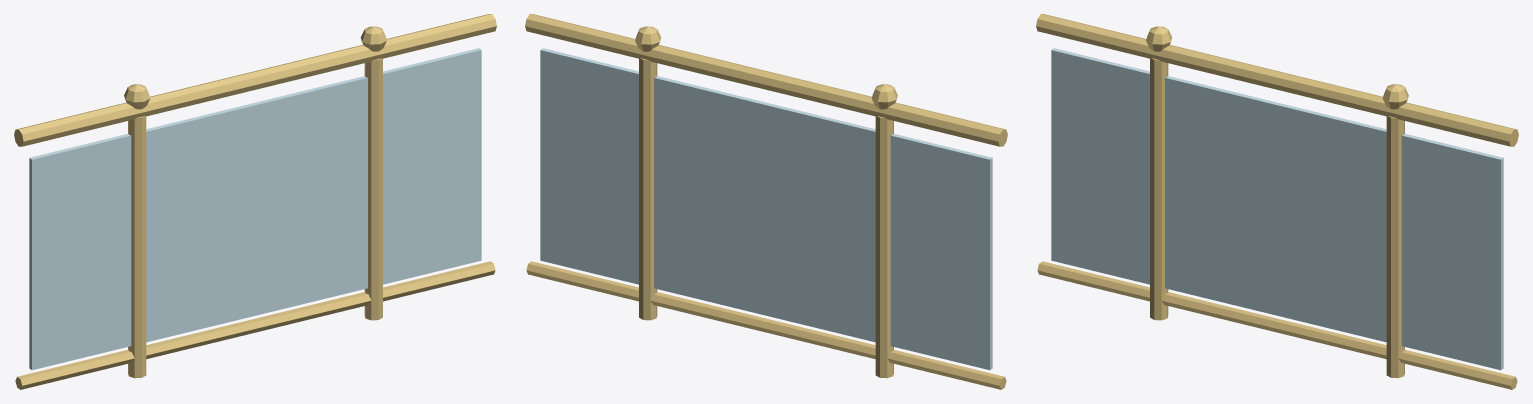
Rendered from CR_BarandillaLujo.fbx.
3 views of the same model, side by side, from view 1: azimuth 30°, elevation 25°; view 2: azimuth 150°, elevation 25°; view 3: azimuth 330°, elevation 25° (orthographic).
Parts seen in each view (by area): view 1: CR_BarandillaLujo; view 2: CR_BarandillaLujo; view 3: CR_BarandillaLujo.
Part boxes in pixels (x1,y1,x2,y2): CR_BarandillaLujo: (14,14,496,389); CR_BarandillaLujo: (525,14,1007,389); CR_BarandillaLujo: (1036,14,1518,389).
Size of the model in its own units: 2 by 1.17 by 0.1.
